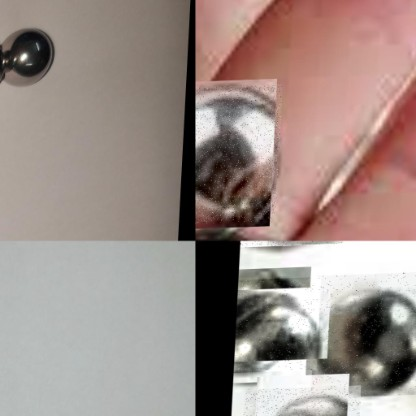ironball: (313, 273, 415, 399), (195, 85, 284, 225), (236, 277, 322, 372), (0, 26, 63, 90), (245, 386, 363, 415)
